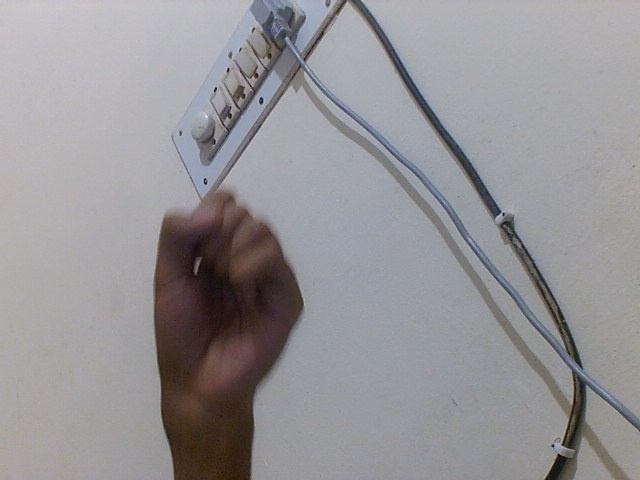hand: (147, 187, 303, 430)
